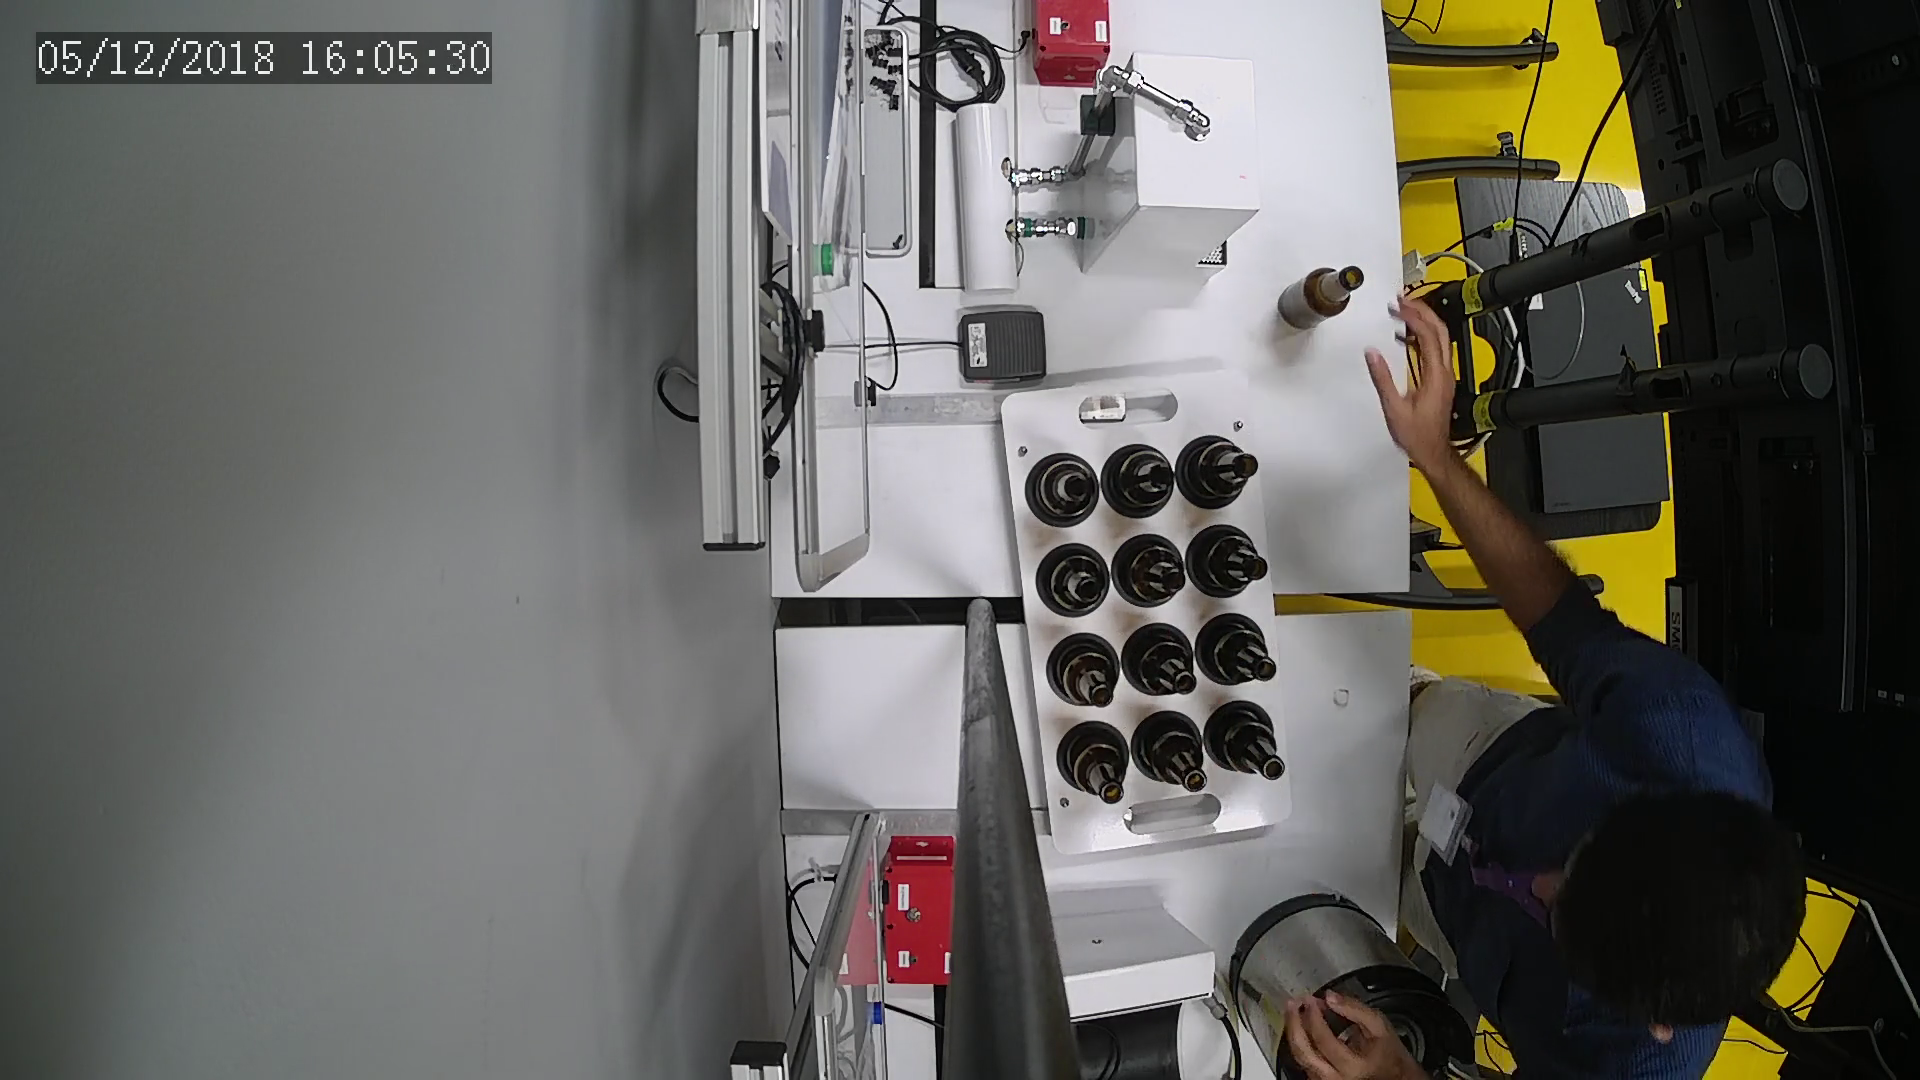filled_bottle: (1212, 699, 1302, 799), (1197, 611, 1284, 702), (1176, 430, 1266, 516), (1112, 524, 1195, 613), (1040, 630, 1131, 711), (1095, 438, 1179, 524), (1137, 705, 1215, 795), (1182, 526, 1273, 603), (1120, 620, 1199, 705), (1031, 543, 1118, 620), (1025, 451, 1104, 534), (1060, 713, 1131, 803)
trolley: (997, 372, 1305, 851)
unfilled_bottle: (1273, 266, 1367, 332)
